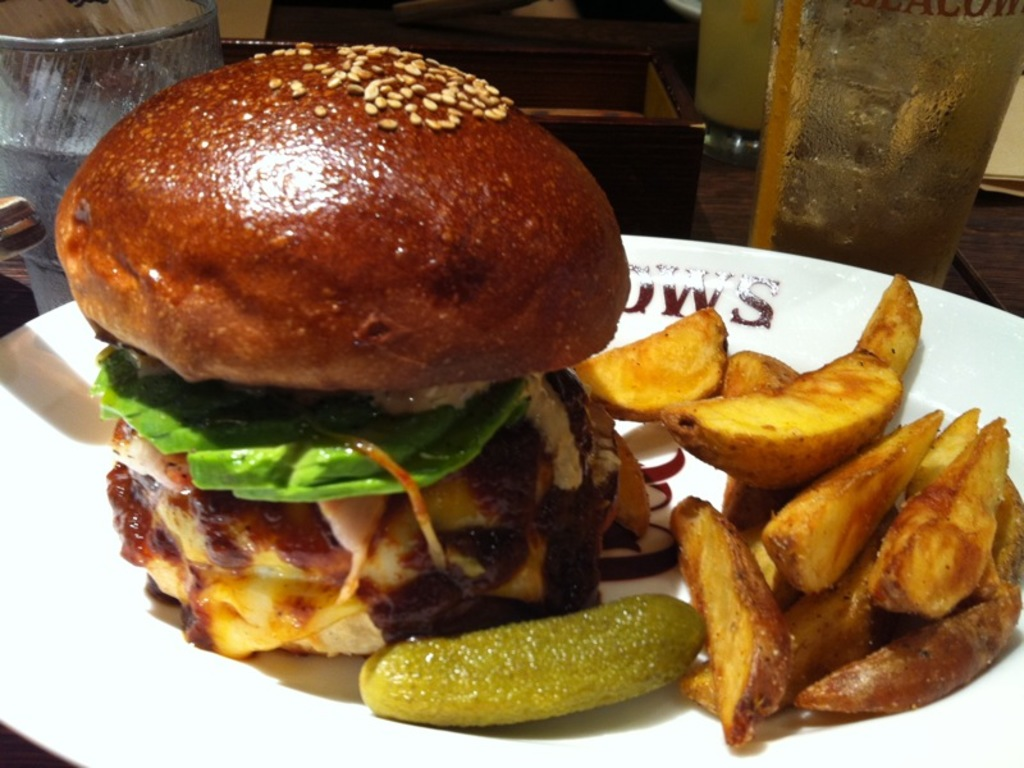French fries: (637, 396, 1011, 716)
